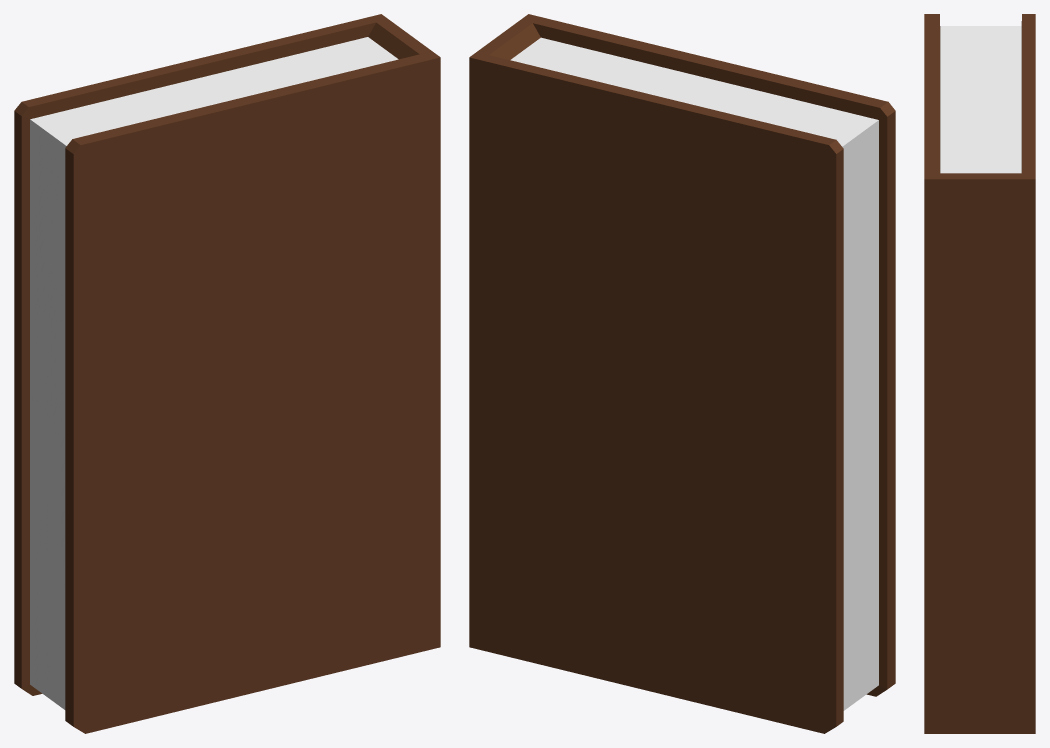
The model's file is book02.gltf.
3 views of the same model, side by side, from view 1: azimuth 30°, elevation 25°; view 2: azimuth 150°, elevation 25°; view 3: azimuth 270°, elevation 25° (orthographic). The views are drawn at different scales.
Visible parts, largest first — view 1: Cube.001; view 2: Cube.001; view 3: Cube.001.
Part boxes in pixels (<box>): Cube.001: <box>14,14,440,733</box>; Cube.001: <box>469,14,895,733</box>; Cube.001: <box>924,14,1035,733</box>.
Bounding box in the file's own units: 0.1678 × 0.2575 × 0.0469.
Materials: 1 (1 with a texture image).
